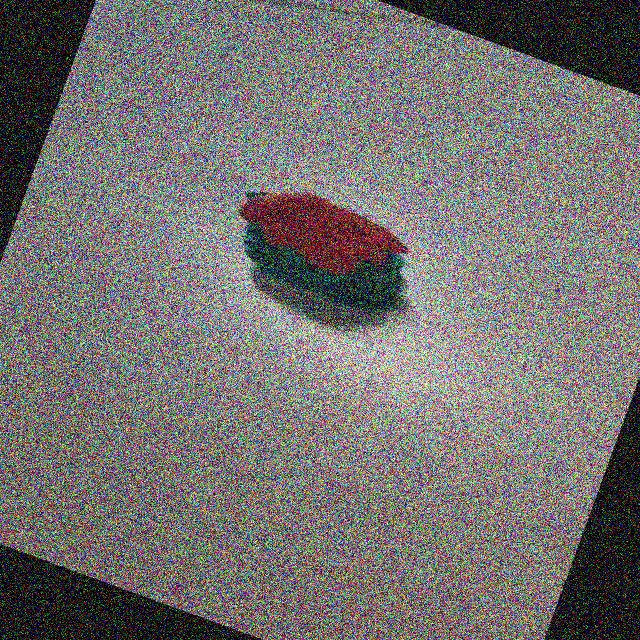House: (216, 165, 444, 335)
